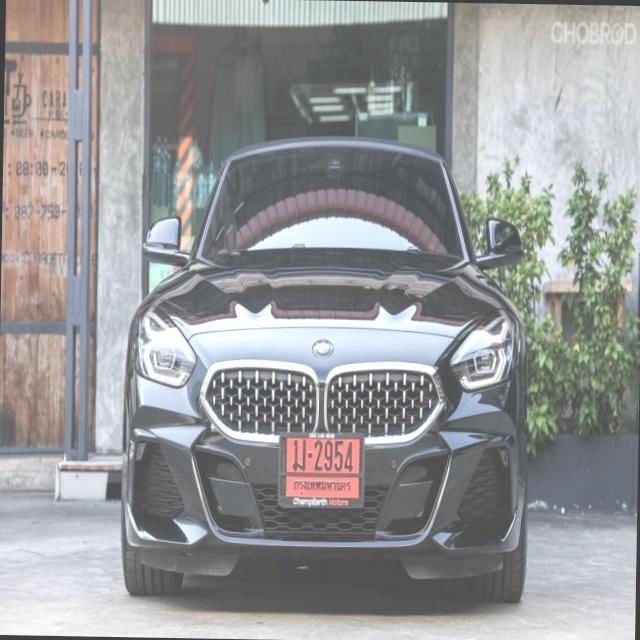license_plate: (274, 421, 372, 515)
